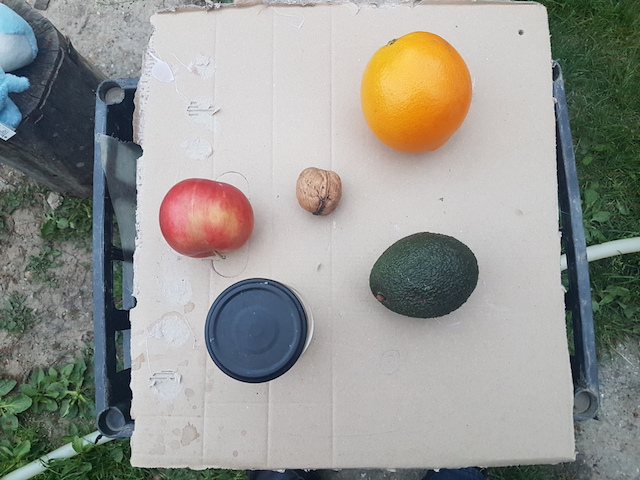apple: (157, 176, 258, 260)
avocado: (365, 230, 480, 321)
nut: (293, 162, 346, 217)
orange: (359, 28, 474, 156)
recipient: (204, 276, 310, 382)
